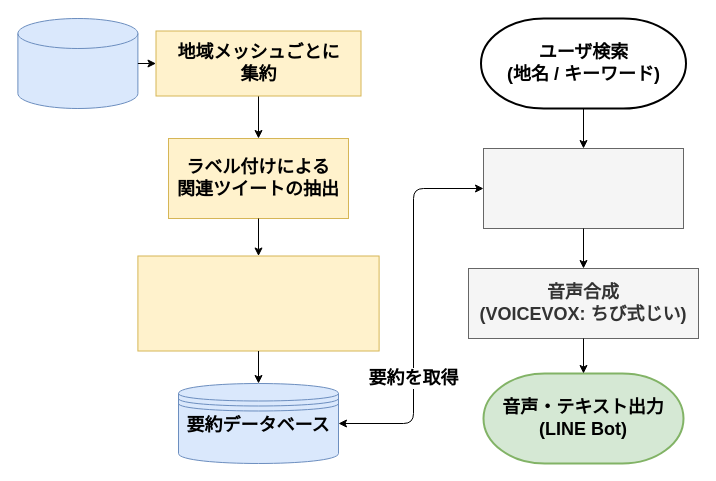
This 716x481 diagram has some shape labels left out. The centre of each missing label's shape, as x and y in pixels:
お地蔵さんペルソナ付与 LLMによるナラティブ生成 (gpt-5-mini): (x=258, y=303)
ジオコーディング & メッシュ検索: (x=583, y=188)
ツイート データ: (x=77, y=63)
